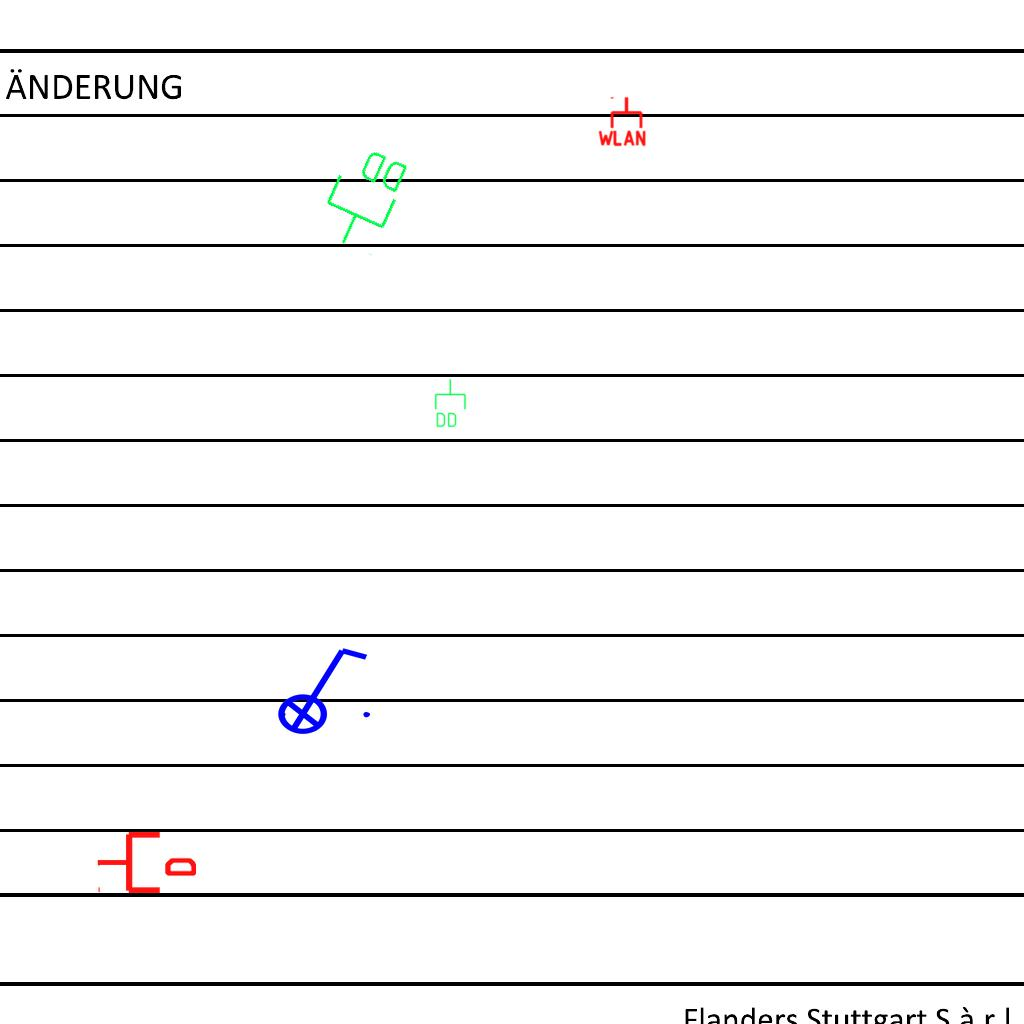Ausschalter_beleuchtet: (264, 640, 376, 736)
Datenanschluss_einfach: (96, 828, 196, 897)
Datenanschluss_zweifach: (311, 137, 416, 260), (433, 378, 467, 429)
WLAN: (596, 95, 648, 147)
